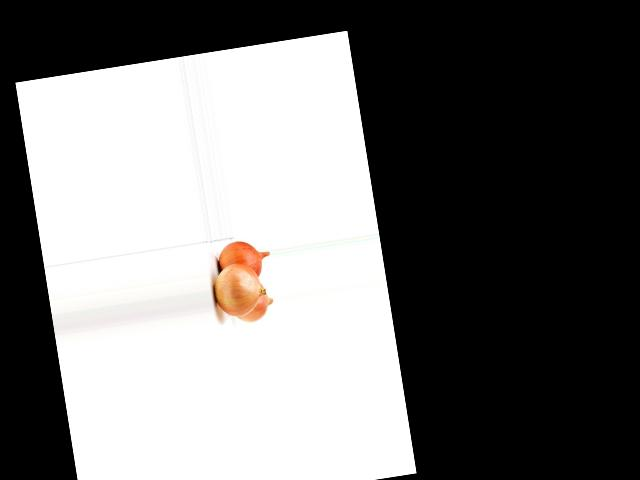onion: (212, 237, 269, 284)
